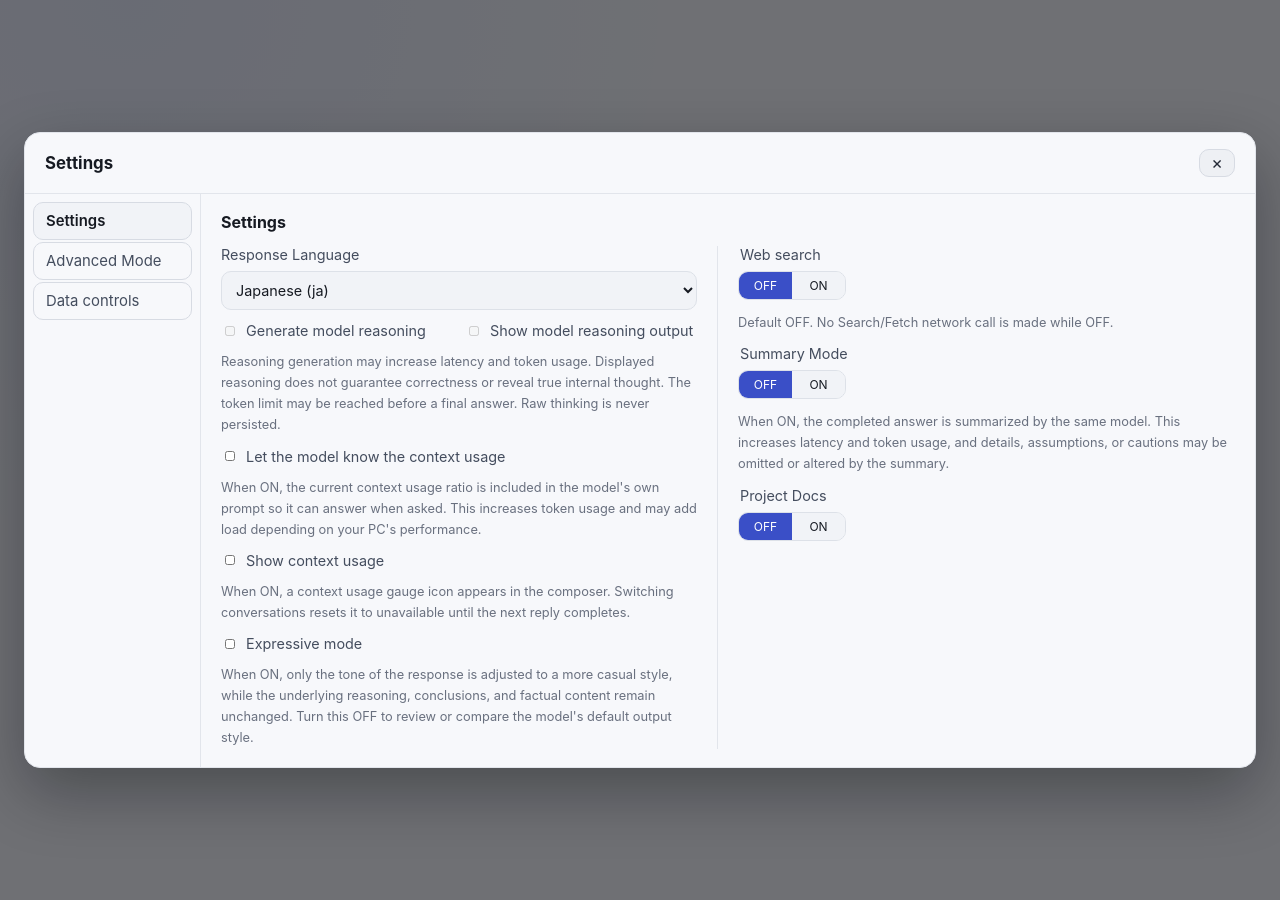
Test: SettingsModal › Advanced Mode renders the Web Search panel when its bootstrap is enabled
The width and height of the screenshot is (1280, 900).
What coordinates should you click on to do the following:
click the button "Advanced Mode"
I would click on:
 (112, 261)
Its box is 33,242 -> 192,280.
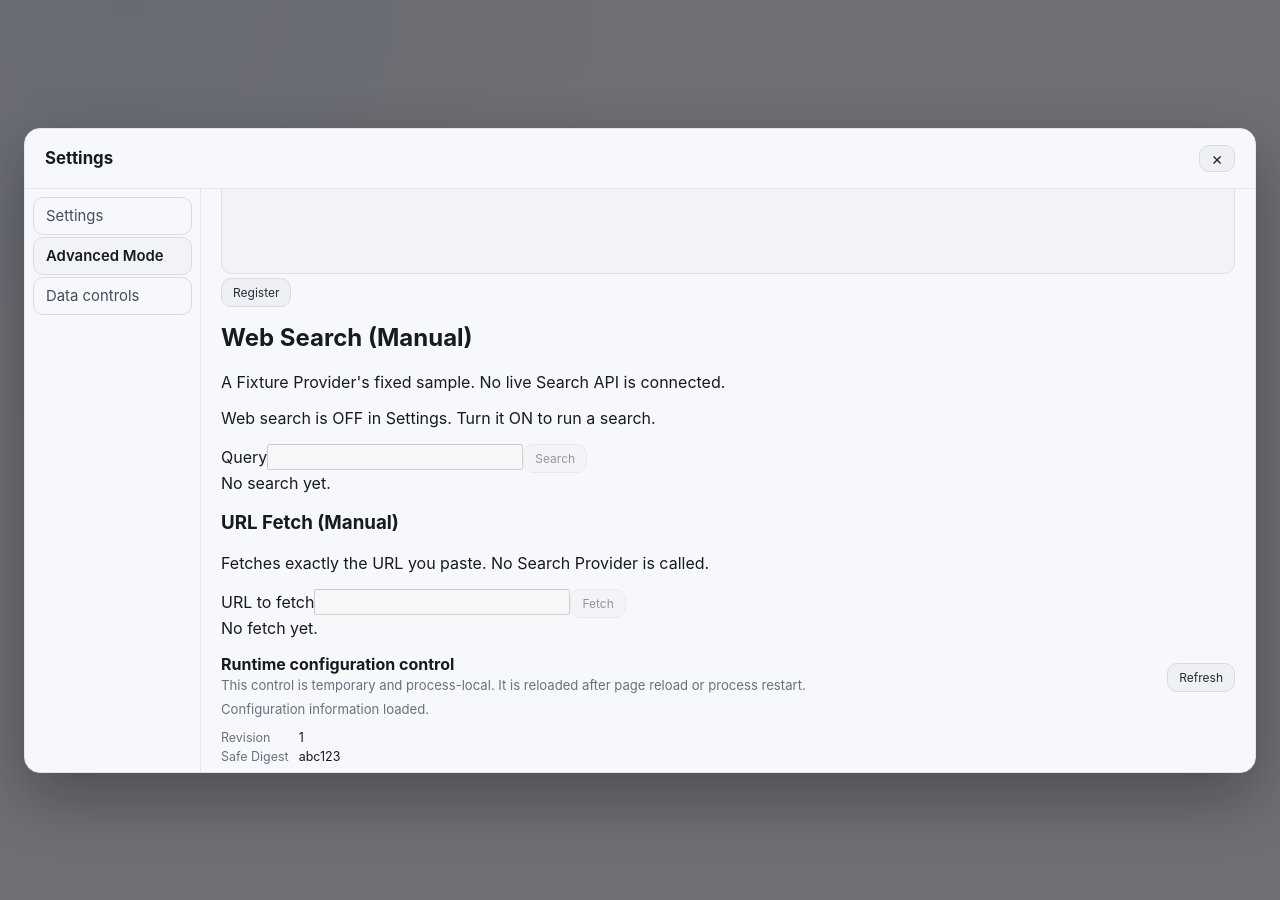
Now the element with id "web-search-panel" is shown, box 221,323 -> 725,638
